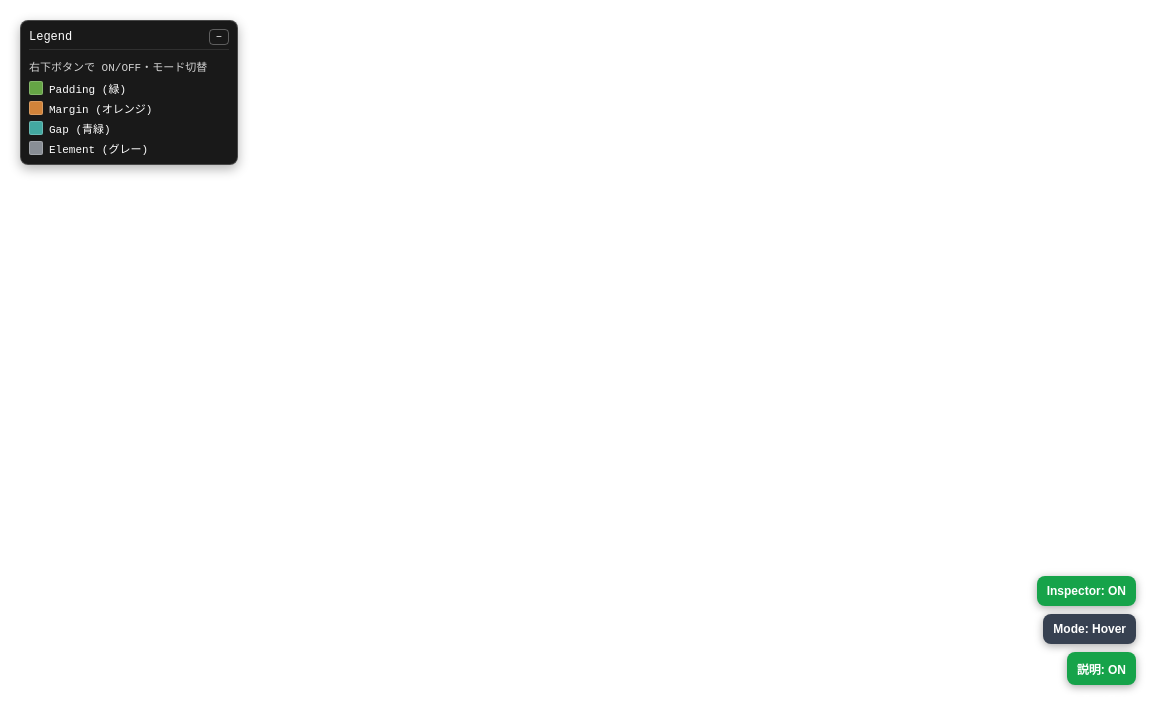
Test: App Integration Tests › Conditional Rendering Logic › should handle inspector mode changes properly
Click the button "Mode: Hover" at (1090, 629), box [1043,614,1136,644]
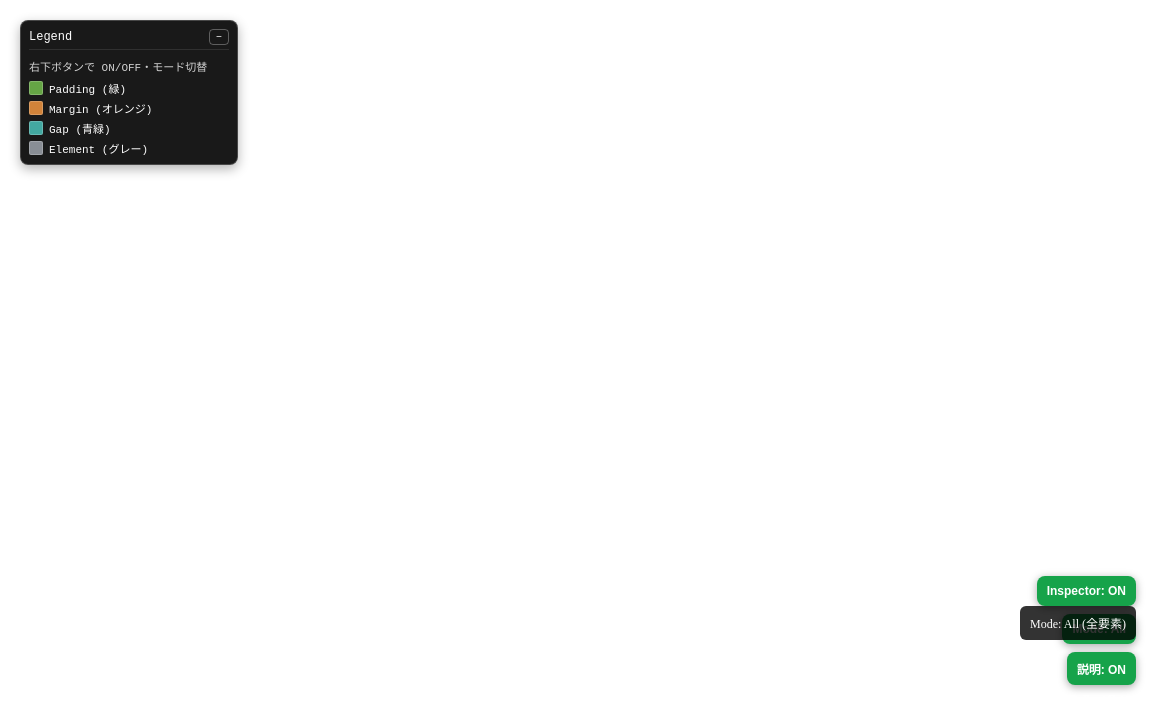
Check: the button "Mode: All" is shown, box [1062,614,1136,644]
